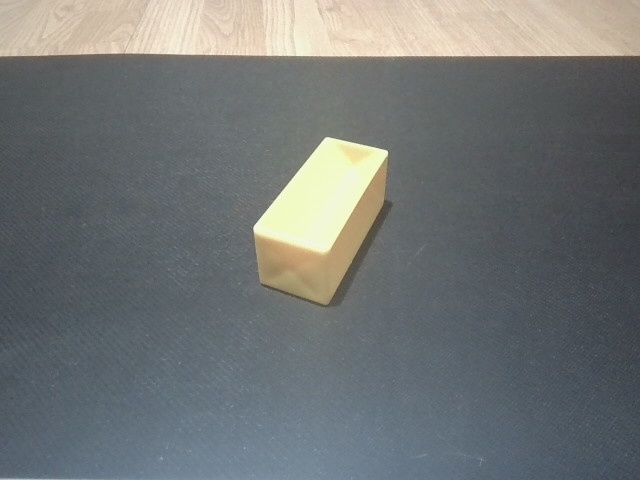YellowSample: (250, 134, 390, 308)
